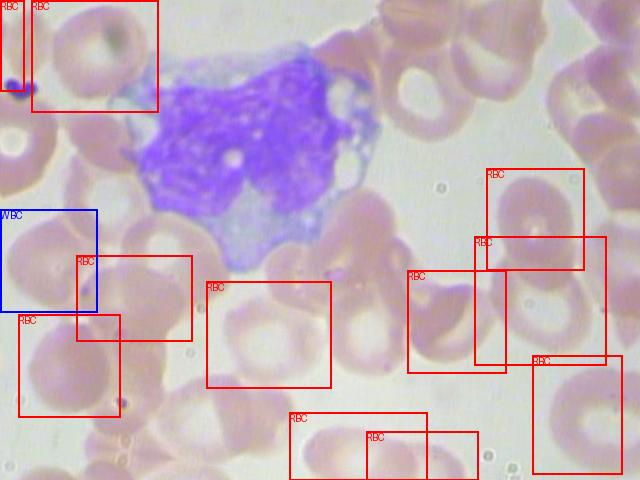RBC: (474, 236, 606, 365), (31, 0, 158, 112), (206, 281, 331, 388), (532, 355, 622, 474), (18, 314, 120, 417), (407, 270, 506, 373), (486, 168, 584, 270), (76, 255, 192, 341), (289, 412, 427, 480), (366, 431, 478, 480), (0, 0, 24, 91)
WBC: (0, 209, 97, 312)
